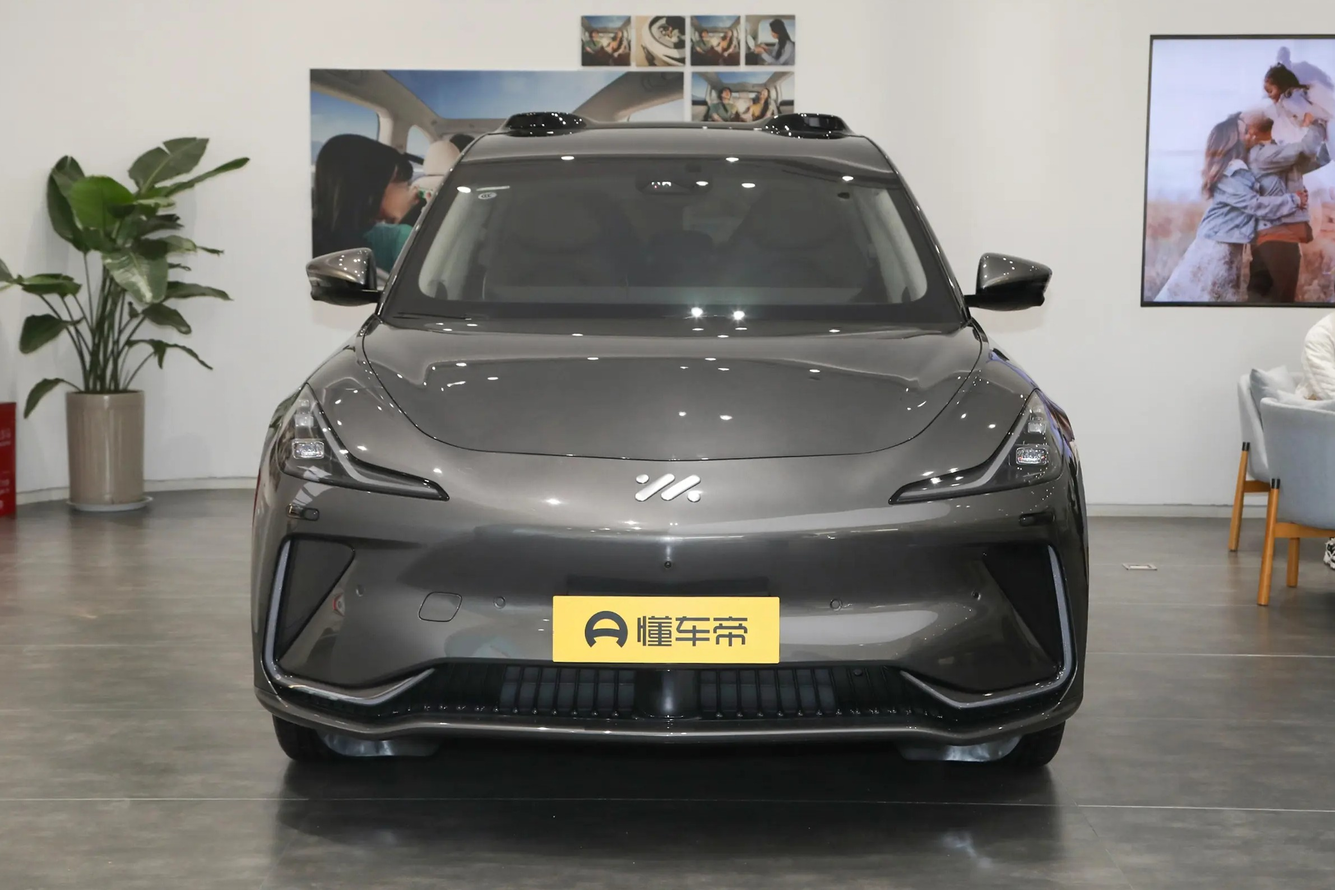IM: (636, 472, 701, 501)
